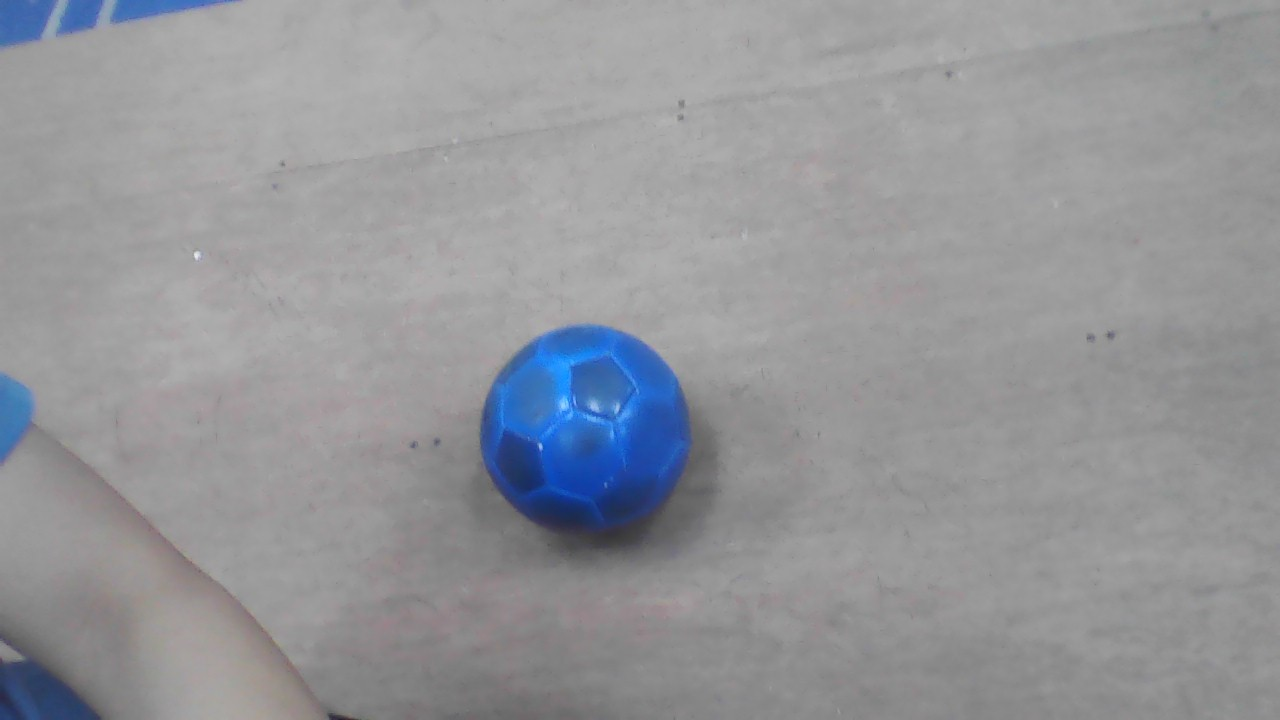Blue: (479, 324, 692, 536)
